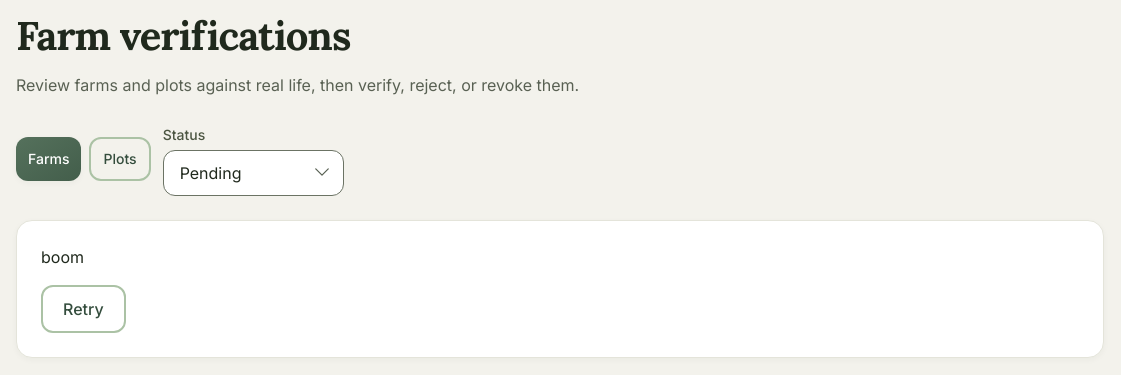
AdminVerificationsPage › retries the queue after a load failure
Check: the message "boom Retry" is shown, box [16, 220, 1104, 358]
Click the button with test id "queue-retry": x=83, y=309 [41, 285, 126, 333]
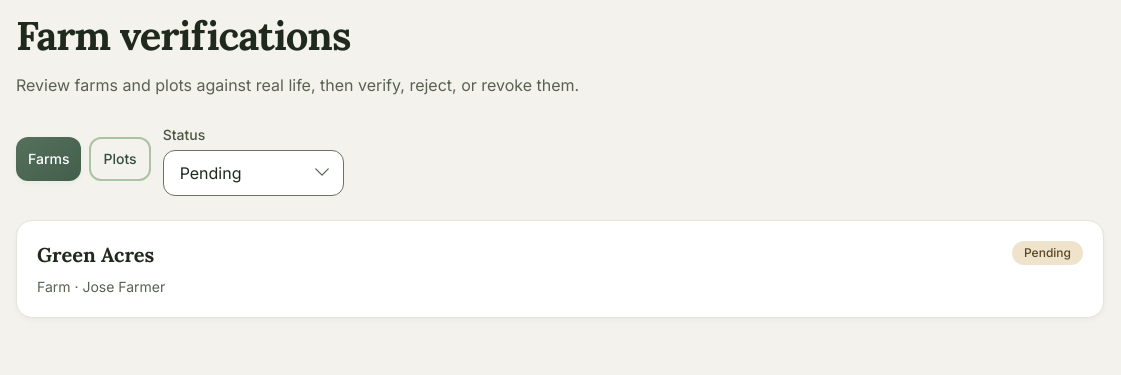
Check: the number of buttons with test id "verification-row" is 1, box [16, 220, 1104, 318]
